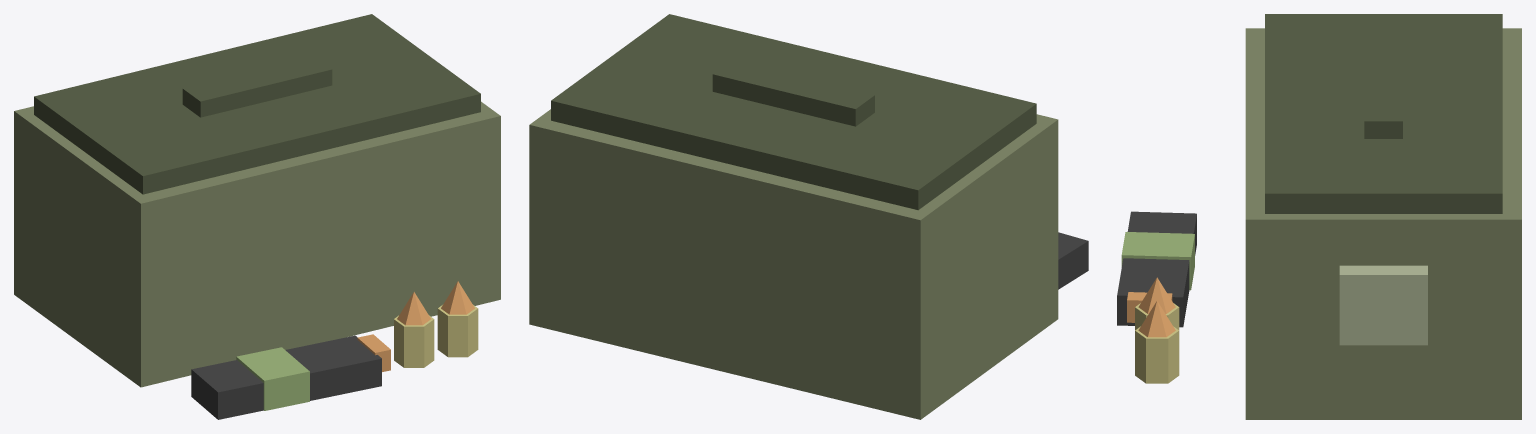
The model's file is ce_ammo_pistol_hp_c.obj.
3 renders of one model, left to right at view 1: azimuth 30°, elevation 25°; view 2: azimuth 150°, elevation 25°; view 3: azimuth 270°, elevation 25°, orthographic. The views are drawn at different scales.
Parts seen in each view (by area): view 1: ce_ammo_pistol_hp_c_0, ce_ammo_pistol_hp_c_1, ce_ammo_pistol_hp_c_4, ce_ammo_pistol_hp_c_2, ce_ammo_pistol_hp_c_5, ce_ammo_pistol_hp_c_9, ce_ammo_pistol_hp_c_7, ce_ammo_pistol_hp_c_8, ce_ammo_pistol_hp_c_10, ce_ammo_pistol_hp_c_6; view 2: ce_ammo_pistol_hp_c_0, ce_ammo_pistol_hp_c_1, ce_ammo_pistol_hp_c_2, ce_ammo_pistol_hp_c_4; view 3: ce_ammo_pistol_hp_c_0, ce_ammo_pistol_hp_c_1, ce_ammo_pistol_hp_c_3, ce_ammo_pistol_hp_c_4, ce_ammo_pistol_hp_c_2, ce_ammo_pistol_hp_c_9, ce_ammo_pistol_hp_c_5, ce_ammo_pistol_hp_c_10, ce_ammo_pistol_hp_c_8, ce_ammo_pistol_hp_c_7, ce_ammo_pistol_hp_c_6.
Part boxes in pixels (<box>): ce_ammo_pistol_hp_c_0: <box>14,101,500,387</box>; ce_ammo_pistol_hp_c_1: <box>34,14,480,194</box>; ce_ammo_pistol_hp_c_4: <box>191,335,381,419</box>; ce_ammo_pistol_hp_c_2: <box>182,56,332,117</box>; ce_ammo_pistol_hp_c_5: <box>236,347,309,410</box>; ce_ammo_pistol_hp_c_9: <box>437,305,478,357</box>; ce_ammo_pistol_hp_c_7: <box>394,315,434,367</box>; ce_ammo_pistol_hp_c_8: <box>397,292,430,325</box>; ce_ammo_pistol_hp_c_10: <box>441,281,474,314</box>; ce_ammo_pistol_hp_c_6: <box>357,334,390,371</box>; ce_ammo_pistol_hp_c_0: <box>529,109,1058,419</box>; ce_ammo_pistol_hp_c_1: <box>551,14,1036,210</box>; ce_ammo_pistol_hp_c_2: <box>712,60,874,126</box>; ce_ammo_pistol_hp_c_4: <box>1058,232,1088,289</box>; ce_ammo_pistol_hp_c_0: <box>1245,28,1521,419</box>; ce_ammo_pistol_hp_c_1: <box>1265,14,1502,213</box>; ce_ammo_pistol_hp_c_3: <box>1339,265,1427,345</box>; ce_ammo_pistol_hp_c_4: <box>1117,211,1196,327</box>; ce_ammo_pistol_hp_c_2: <box>1364,51,1402,138</box>; ce_ammo_pistol_hp_c_9: <box>1135,326,1179,383</box>; ce_ammo_pistol_hp_c_5: <box>1121,232,1194,290</box>; ce_ammo_pistol_hp_c_10: <box>1138,301,1175,337</box>; ce_ammo_pistol_hp_c_8: <box>1138,277,1175,313</box>; ce_ammo_pistol_hp_c_7: <box>1135,303,1179,330</box>; ce_ammo_pistol_hp_c_6: <box>1127,292,1172,322</box>.
Bounding box in the file's own units: 0.86 × 0.475 × 0.7324.
